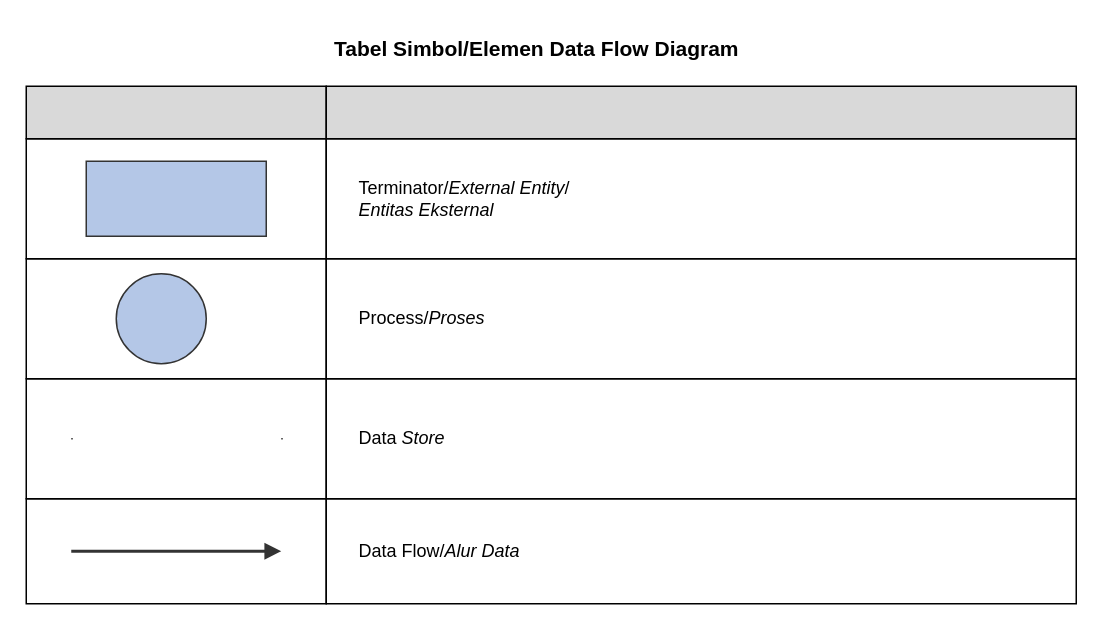
This 1103x630 diagram has some shape labels left out. Here are the shapes that lost their labels. From the top down, the centre of each, then its label:
At point (175, 112): "SIMBOL".
At point (700, 112): "NAMA KOMPONEN".
